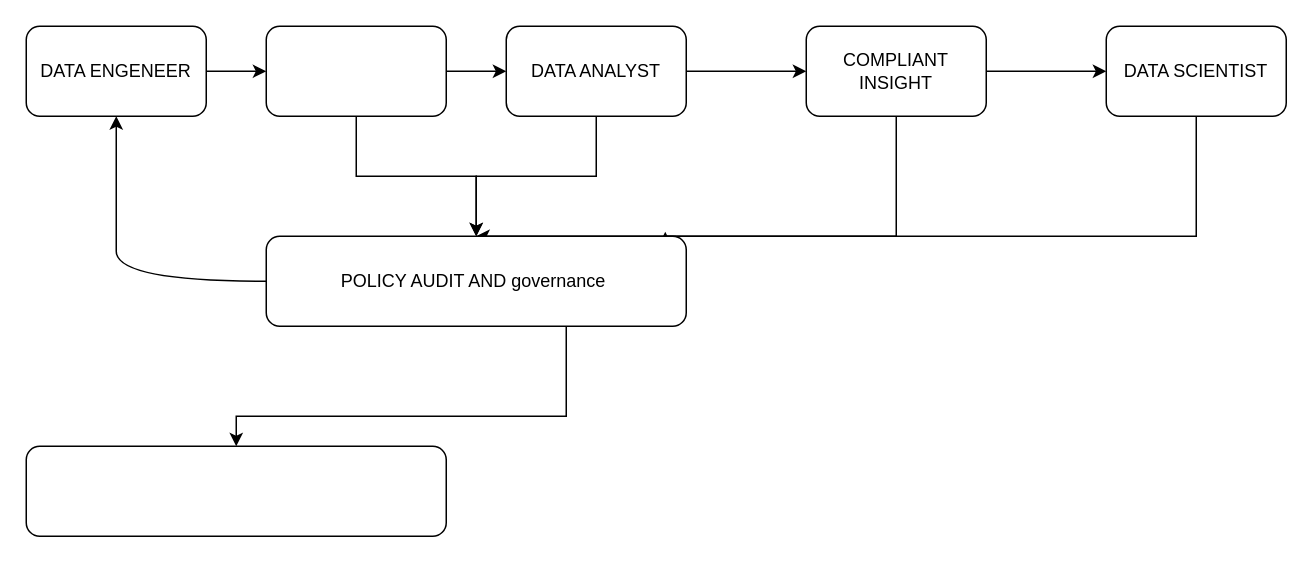
This 1313x563 diagram has some shape labels left out. The shapes that lost their labels are listed below. From the top down, each one's centre as x and y in pixels, then its label:
At (x=355, y=70): "SECURE PIPLINE".
At (x=235, y=490): "FEEDBACK".
